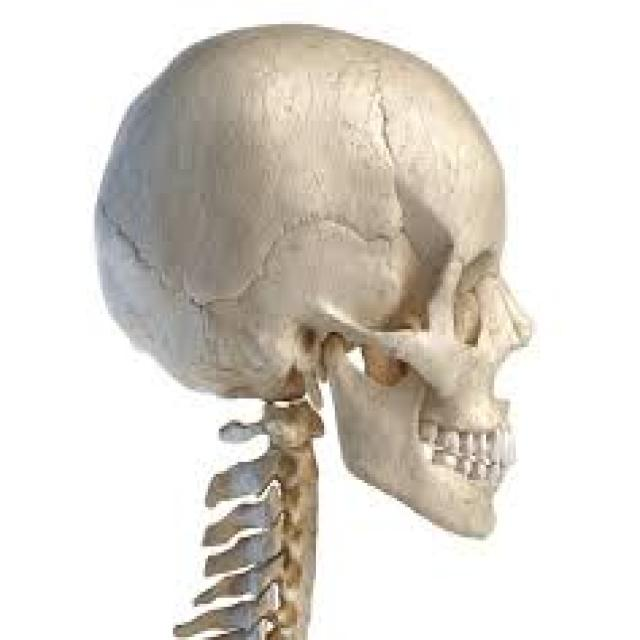skull: (81, 13, 567, 573)
